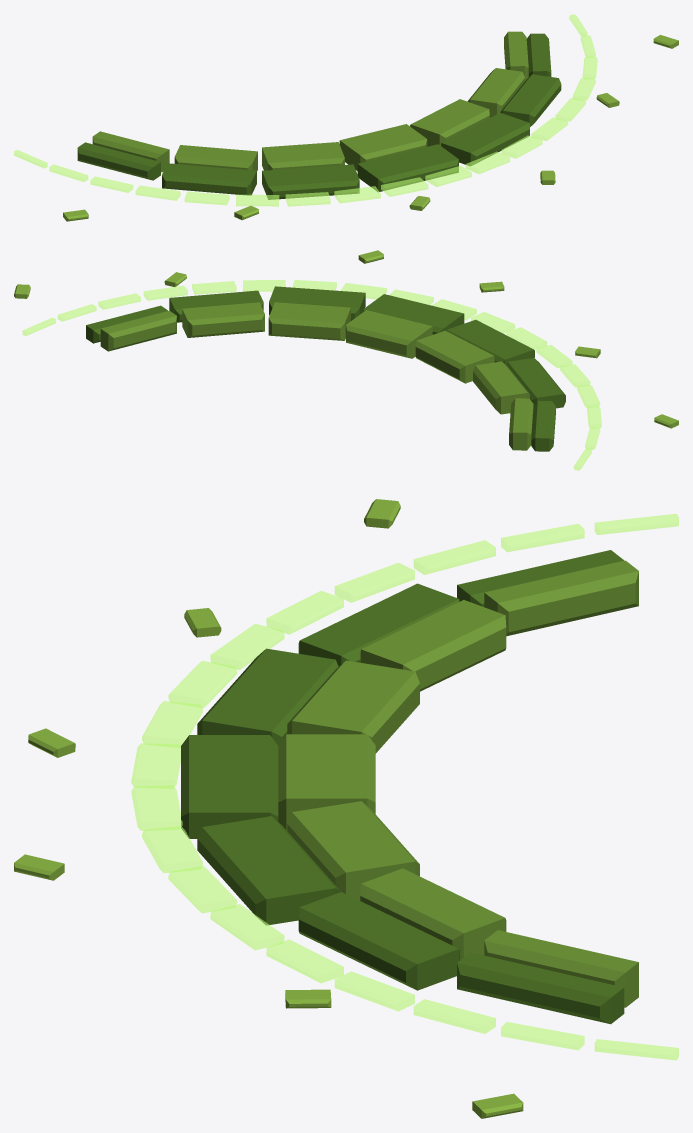
The model's file is fx_pet_leaf_slash.glb.
3 views of the same model, one above another, from view 1: azimuth 30°, elevation 25°; view 2: azimuth 150°, elevation 25°; view 3: azimuth 270°, elevation 25° (orthographic). The views are drawn at different scales.
Visible parts, largest first — view 1: pet_leaf_slash_LeafSlash_Arc_Mesh1, pet_leaf_slash_LeafSlash_Arc_Glow2; view 2: pet_leaf_slash_LeafSlash_Arc_Mesh1, pet_leaf_slash_LeafSlash_Arc_Glow2; view 3: pet_leaf_slash_LeafSlash_Arc_Mesh1, pet_leaf_slash_LeafSlash_Arc_Glow2.
Part boxes in pixels (<box>): pet_leaf_slash_LeafSlash_Arc_Mesh1: <box>63,31,678,221</box>; pet_leaf_slash_LeafSlash_Arc_Glow2: <box>14,14,597,206</box>; pet_leaf_slash_LeafSlash_Arc_Mesh1: <box>14,250,678,451</box>; pet_leaf_slash_LeafSlash_Arc_Glow2: <box>22,280,601,470</box>; pet_leaf_slash_LeafSlash_Arc_Mesh1: <box>14,499,638,1118</box>; pet_leaf_slash_LeafSlash_Arc_Glow2: <box>131,513,678,1060</box>.
Size of the model in its own units: 4.48 by 0.12 by 2.05.
